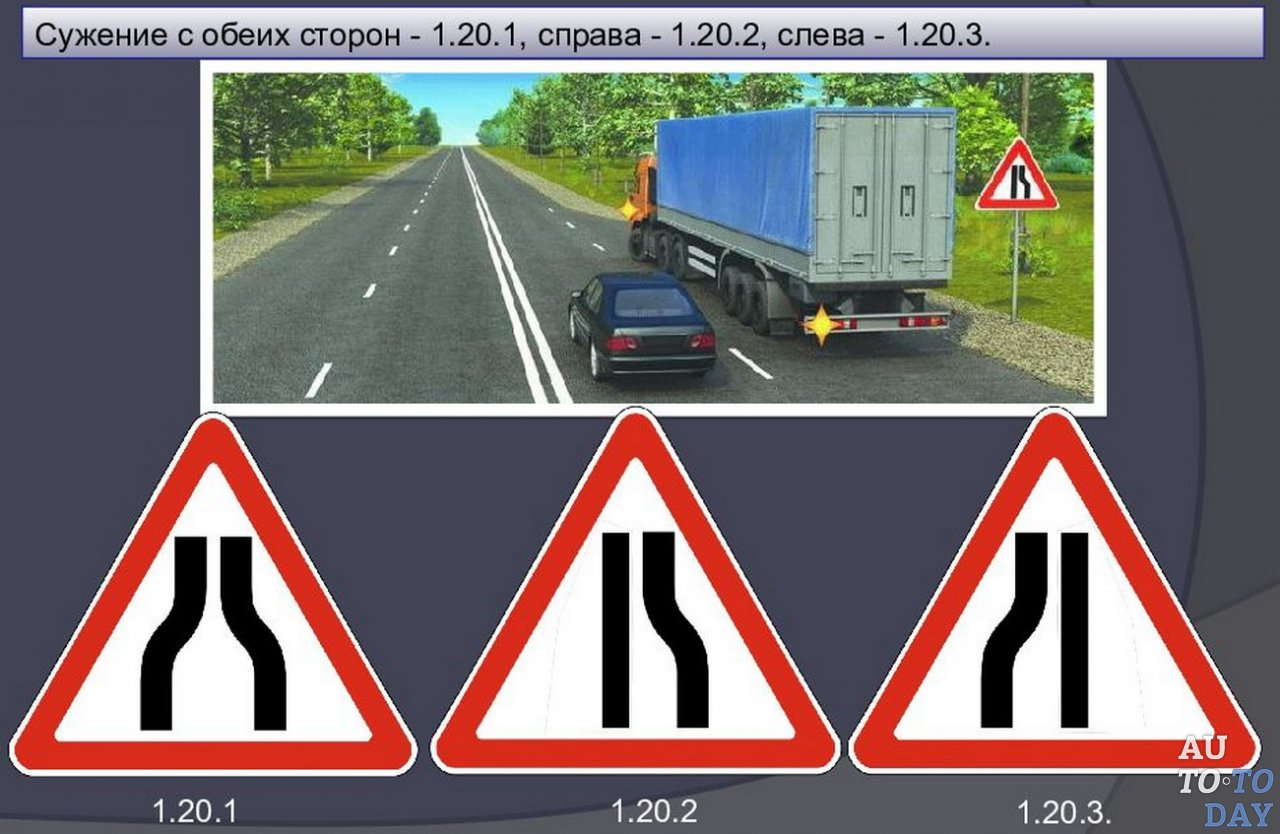1.18.1: (12, 415, 412, 771)
1.18.2: (432, 419, 844, 787), (976, 131, 1060, 207)
1.18.3: (844, 419, 1252, 775)
